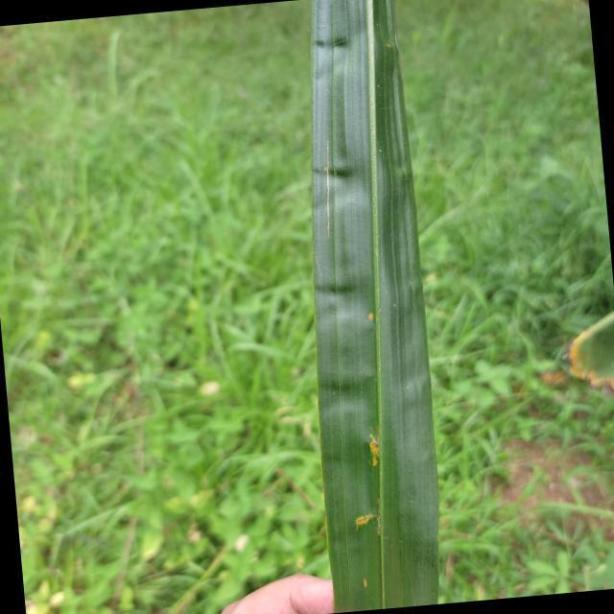Boron: (305, 0, 443, 614)
